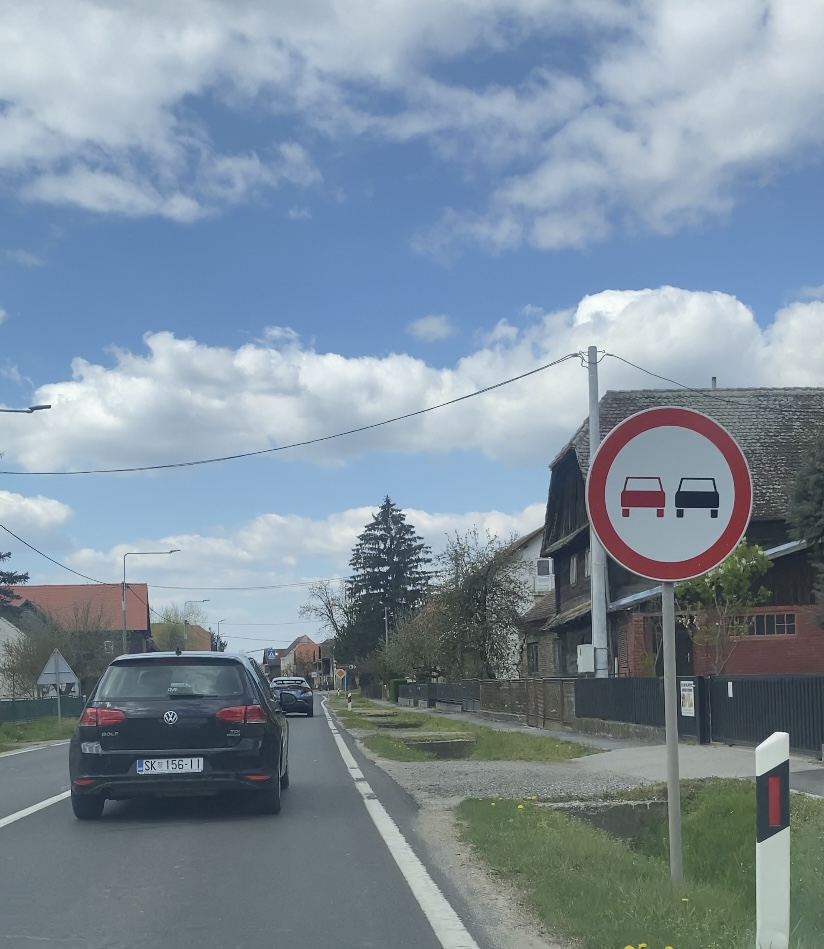Zabrana pretjecanja: (584, 406, 753, 580)
